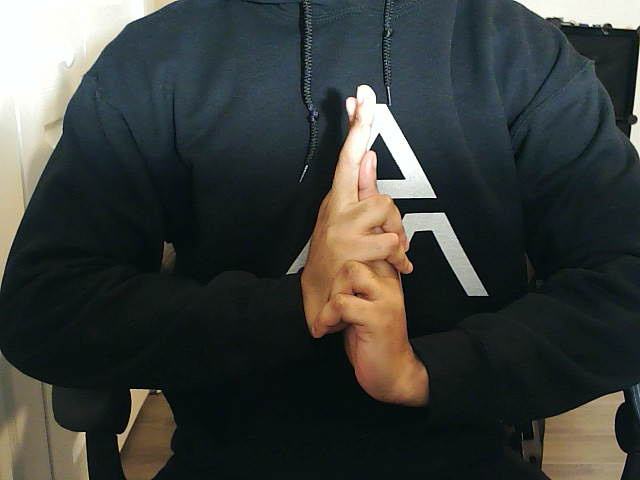Ram: (301, 84, 428, 406)
